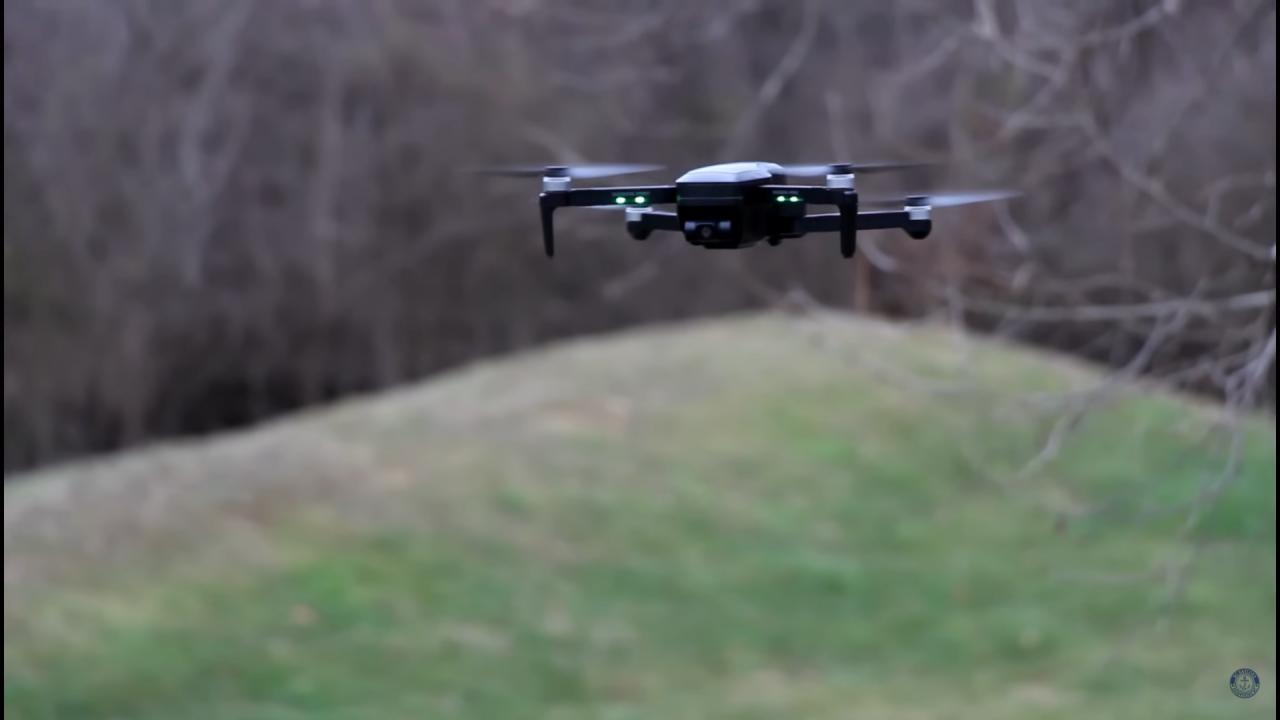Drone: (434, 133, 1046, 282)
